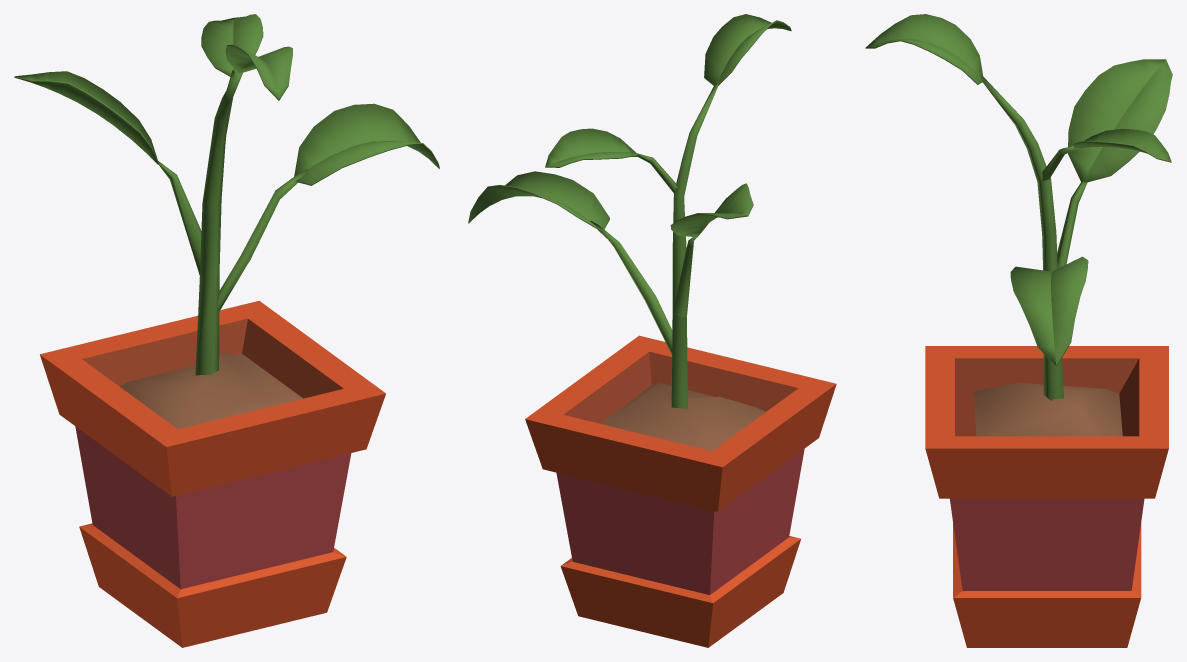
Rendered from PlantSapling.fbx.
3 views of the same model, side by side, from view 1: azimuth 30°, elevation 25°; view 2: azimuth 150°, elevation 25°; view 3: azimuth 270°, elevation 25° (orthographic). The views are drawn at different scales.
Visible parts, largest first — view 1: PlantSapling; view 2: PlantSapling; view 3: PlantSapling.
Part boxes in pixels (<box>): PlantSapling: <box>14,14,439,647</box>; PlantSapling: <box>468,14,836,647</box>; PlantSapling: <box>865,14,1172,647</box>.
Size of the model in its own units: 0.6798 by 1.07 by 0.511.
